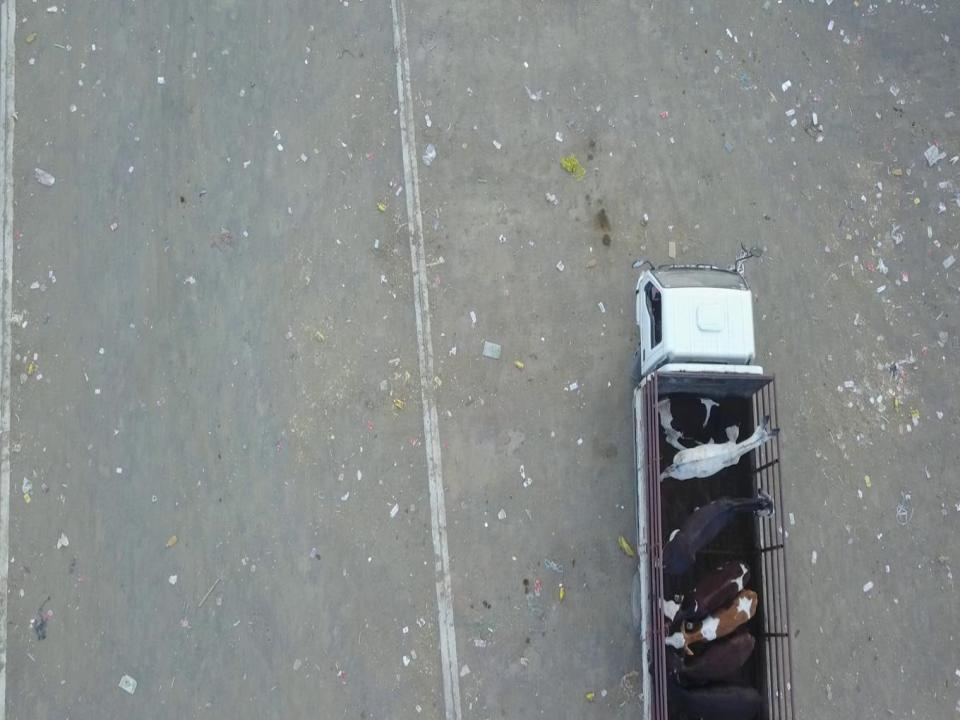truck: (632, 263, 773, 720)
